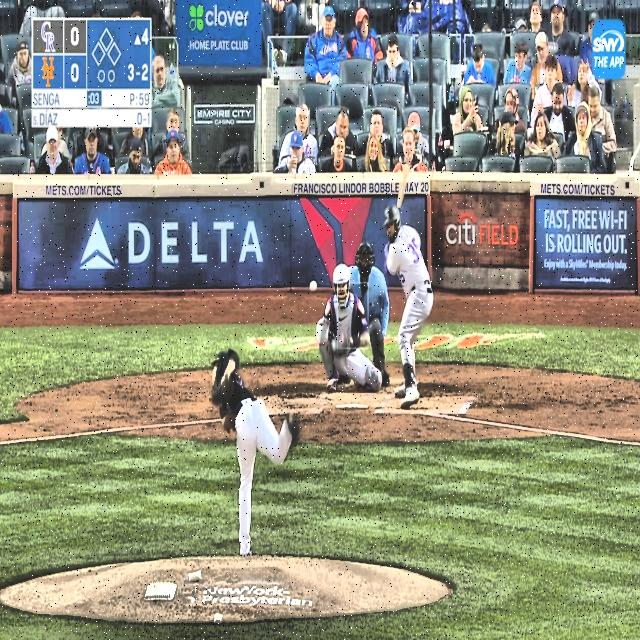baseball: (309, 280, 318, 292)
